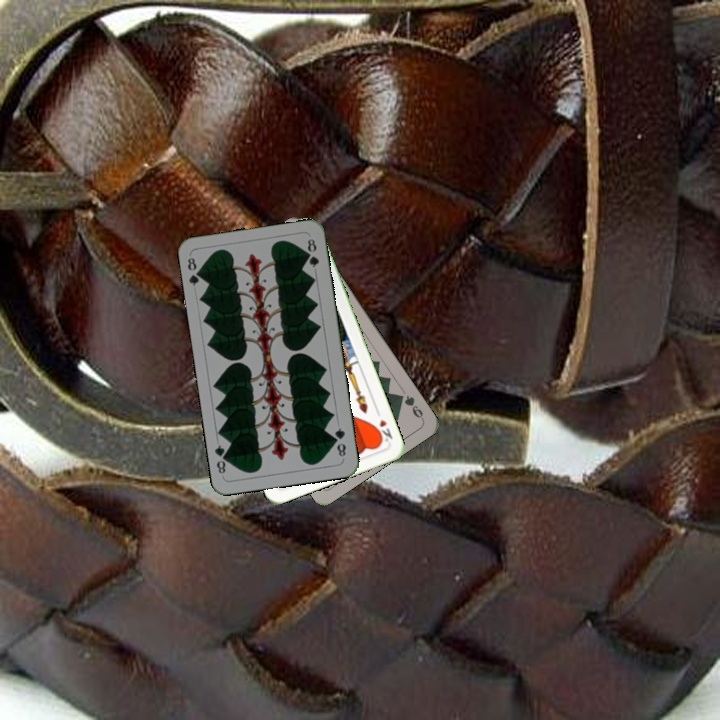G8: (183, 253, 205, 289), (330, 424, 349, 461)
G9: (393, 390, 426, 422)
HK: (371, 406, 395, 445)
